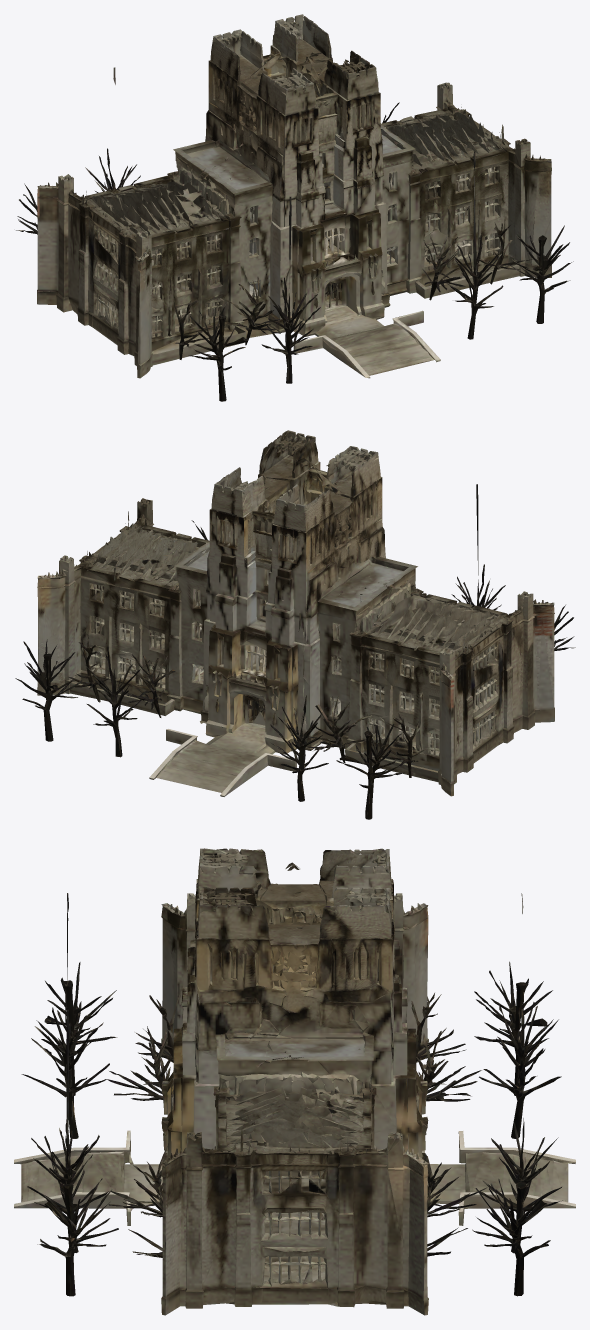
3 views of the same model, one above another, from view 1: azimuth 30°, elevation 25°; view 2: azimuth 150°, elevation 25°; view 3: azimuth 270°, elevation 25° (orthographic). The views are drawn at different scales.
Parts seen in each view (by area): view 1: Mesh_0; view 2: Mesh_0; view 3: Mesh_0.
Part boxes in pixels (x1,y1,x2,y2): Mesh_0: (16, 14, 573, 401); Mesh_0: (15, 430, 575, 819); Mesh_0: (14, 848, 575, 1315).
Bounding box in the file's own units: 1.9 × 1.08 × 1.73.
1 material, 1 textured.
